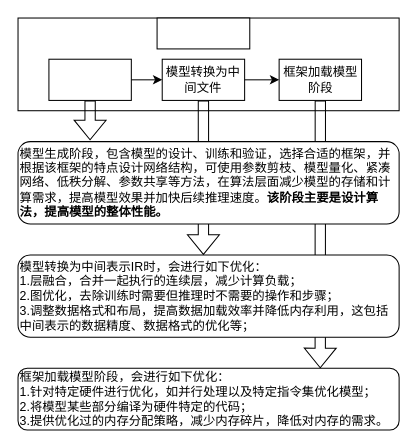
This 417x448 diagram has some shape labels left out. The centre of each missing label's shape, as x and y in pixels:
"框架优化流程" goes at pixel 203 33.
"模型生成" goes at pixel 89 79.
